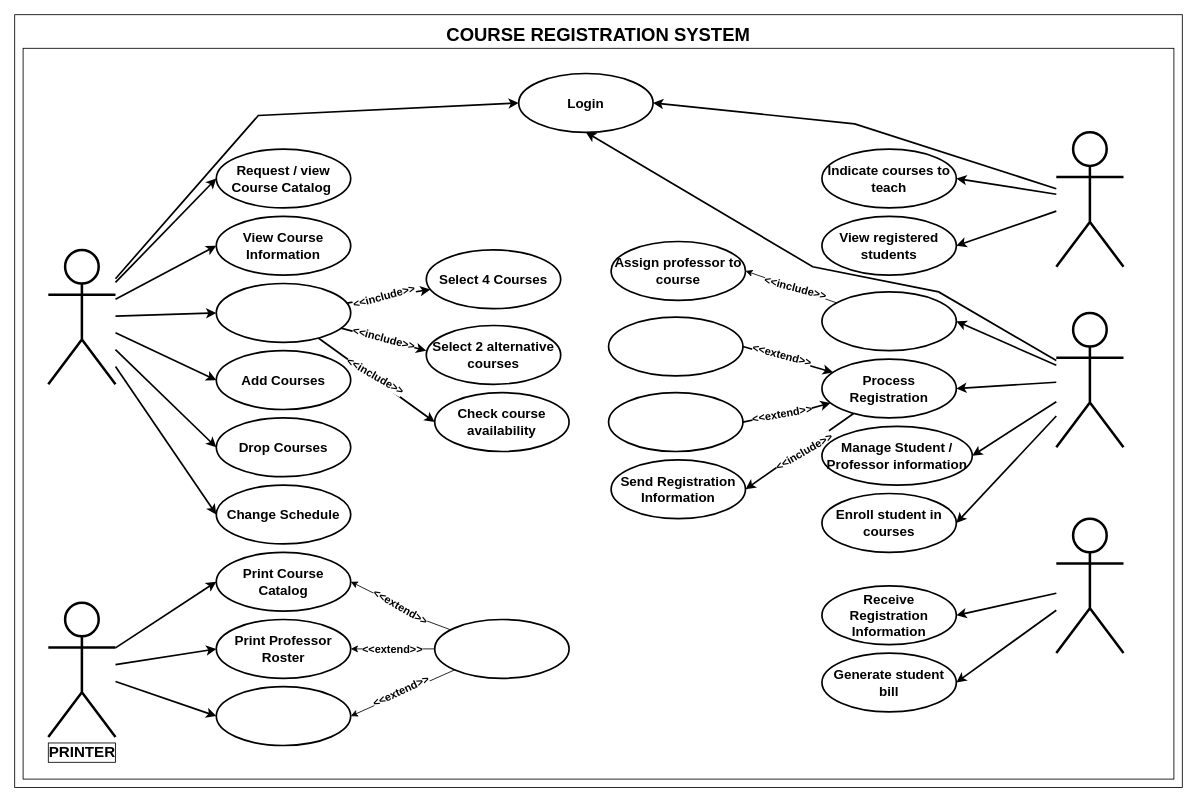
Image size: 1197x802. Some labels were removed from this diagram. The box of each missing label's shape, as (x1, y1, x2, y2) in pixels:
BILLING SYSTEM: (1055, 517, 1124, 654)
Cancel Course: (607, 391, 743, 452)
Error if paper jammed: (433, 618, 570, 679)
Manage Course offering: (821, 291, 957, 351)
Print Student Schedule: (215, 685, 351, 746)
PROFESSOR: (1055, 131, 1124, 268)
Register For Courses: (215, 282, 351, 343)
REGISTRAR: (1055, 311, 1124, 448)
Resolve Course Conflict: (607, 316, 743, 376)
STUDENT: (47, 248, 116, 385)
